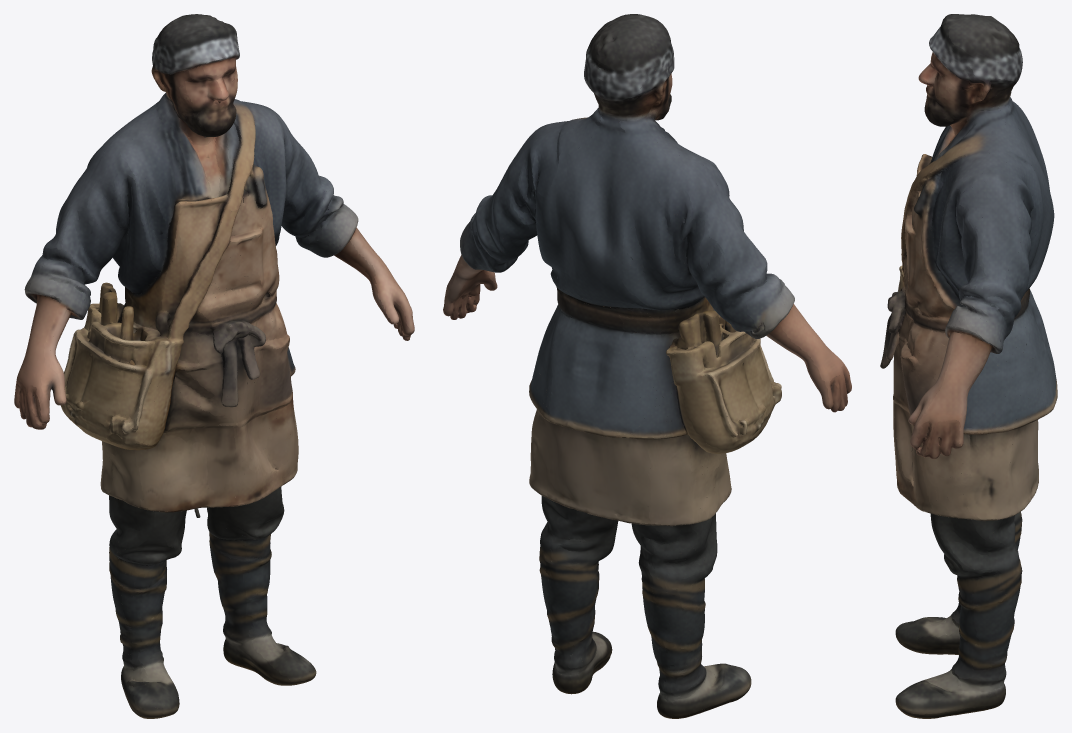
File: street-vendor.glb
3 views of the same model, side by side, from view 1: azimuth 30°, elevation 25°; view 2: azimuth 150°, elevation 25°; view 3: azimuth 270°, elevation 25° (orthographic).
Parts seen in each view (by area): view 1: world; view 2: world; view 3: world.
Boxes of the visible parts, x1,y1,x2,y2 form: world: (14, 14, 414, 718); world: (443, 14, 851, 718); world: (880, 14, 1057, 718).
Size of the model in its own units: 1.06 by 1.75 by 0.4251.
Materials: 1 (1 with a texture image).
